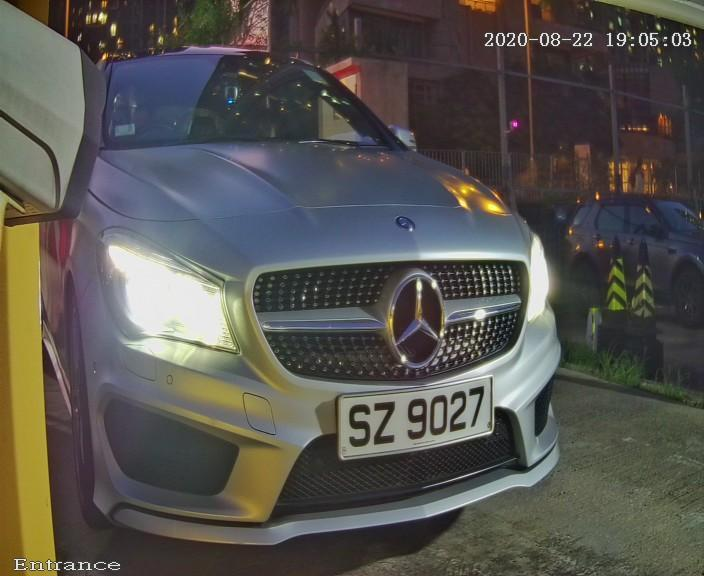License Plate: (334, 371, 507, 466)
